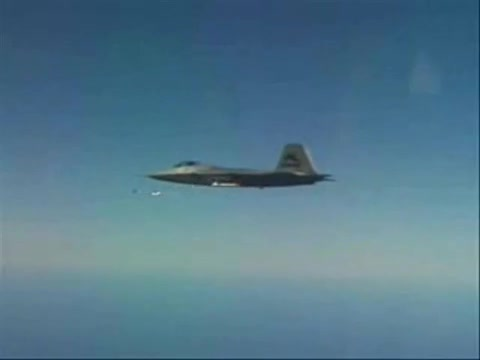aeroplane: (144, 143, 338, 189)
